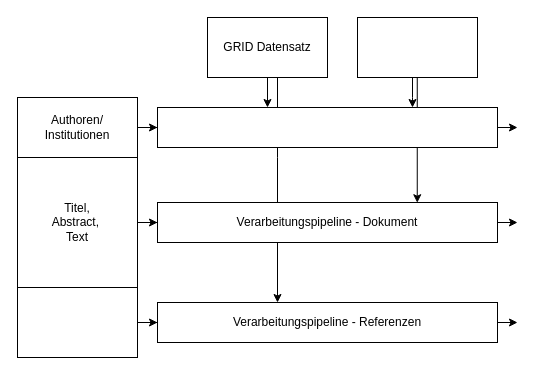
Image size: 543x375. Some labels were removed from this diagram. Here are the shapes that lost their labels. From the top down, the box of each, then its label:
(356, 16, 478, 78): CORD-19 Metadaten
(156, 106, 498, 148): Verarbeitungspipeline - Authoren&Insitutionen
(16, 286, 138, 358): Referenzen
